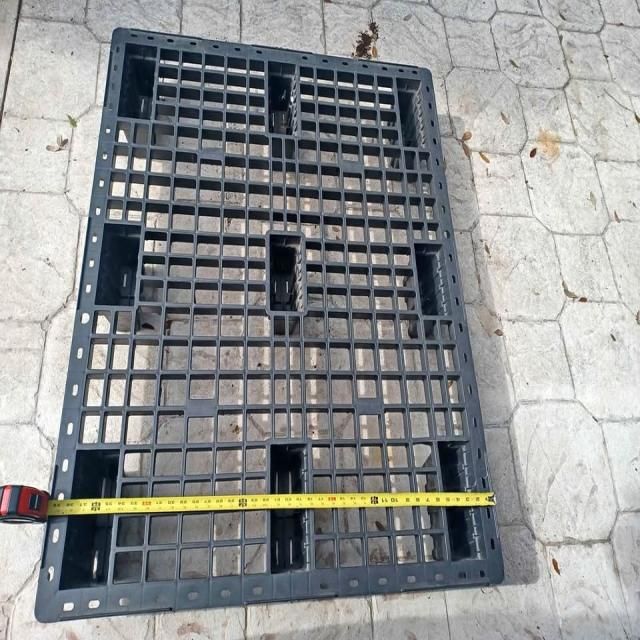non-igps: (31, 18, 510, 631)
